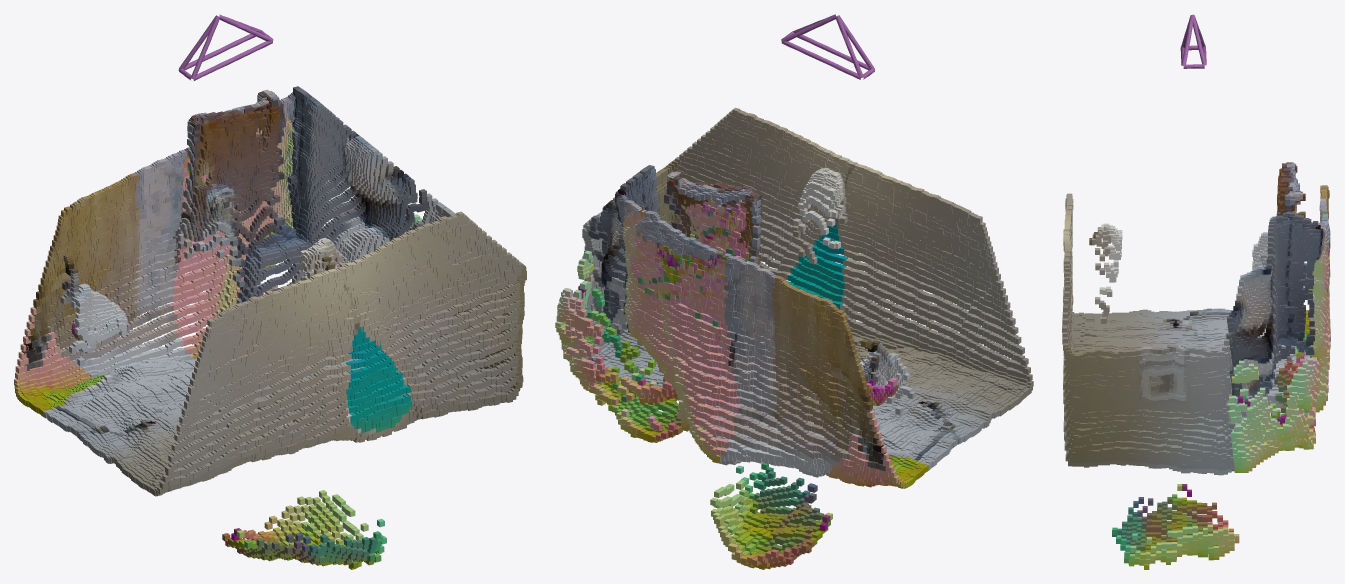
File: pred_3-compressed.glb
3 views of the same model, side by side, from view 1: azimuth 30°, elevation 25°; view 2: azimuth 150°, elevation 25°; view 3: azimuth 270°, elevation 25° (orthographic). The views are drawn at different scales.
Size of the model in its own units: 3.7 by 5.31 by 2.53.
